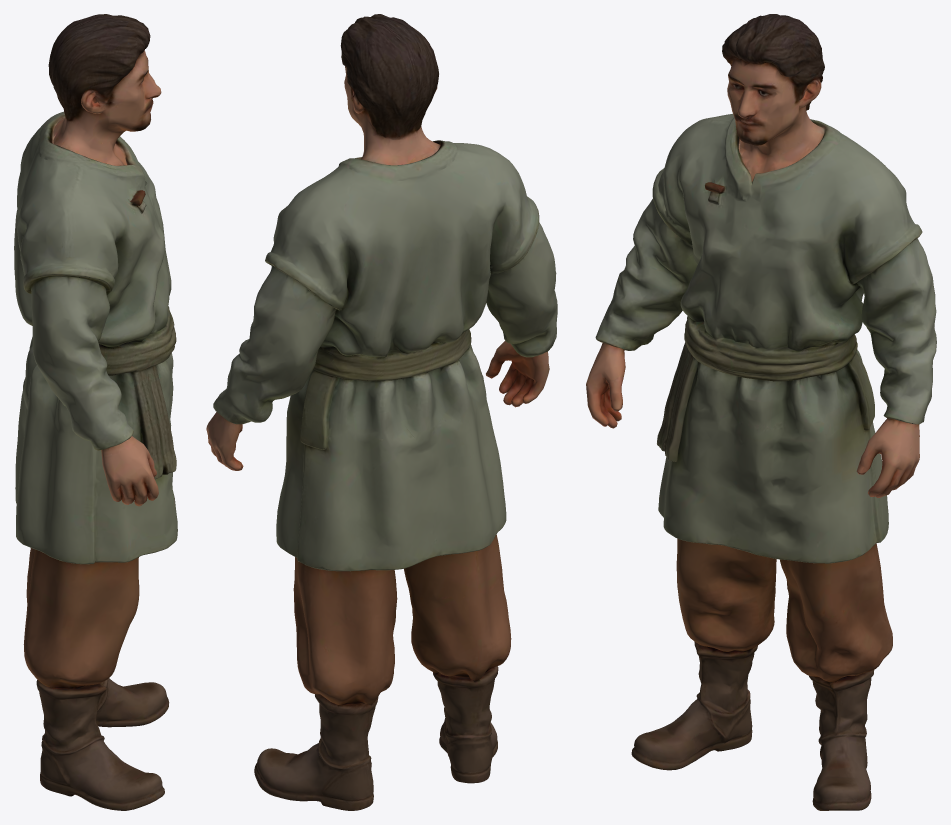
The model's file is asset-representative.glb.
3 views of the same model, side by side, from view 1: azimuth 30°, elevation 25°; view 2: azimuth 150°, elevation 25°; view 3: azimuth 270°, elevation 25° (orthographic). The views are drawn at different scales.
Parts seen in each view (by area): view 1: tripo_node_d5830027-1d35-4835-9be1-f8035f9f82eb; view 2: tripo_node_d5830027-1d35-4835-9be1-f8035f9f82eb; view 3: tripo_node_d5830027-1d35-4835-9be1-f8035f9f82eb.
Part boxes in pixels (x1=…): tripo_node_d5830027-1d35-4835-9be1-f8035f9f82eb: x1=14, y1=14, x2=177, y2=810; tripo_node_d5830027-1d35-4835-9be1-f8035f9f82eb: x1=206, y1=14, x2=557, y2=810; tripo_node_d5830027-1d35-4835-9be1-f8035f9f82eb: x1=586, y1=14, x2=936, y2=810.
Size of the model in its own units: 0.5561 by 1.7 by 0.7161.
1 material, 1 textured.
